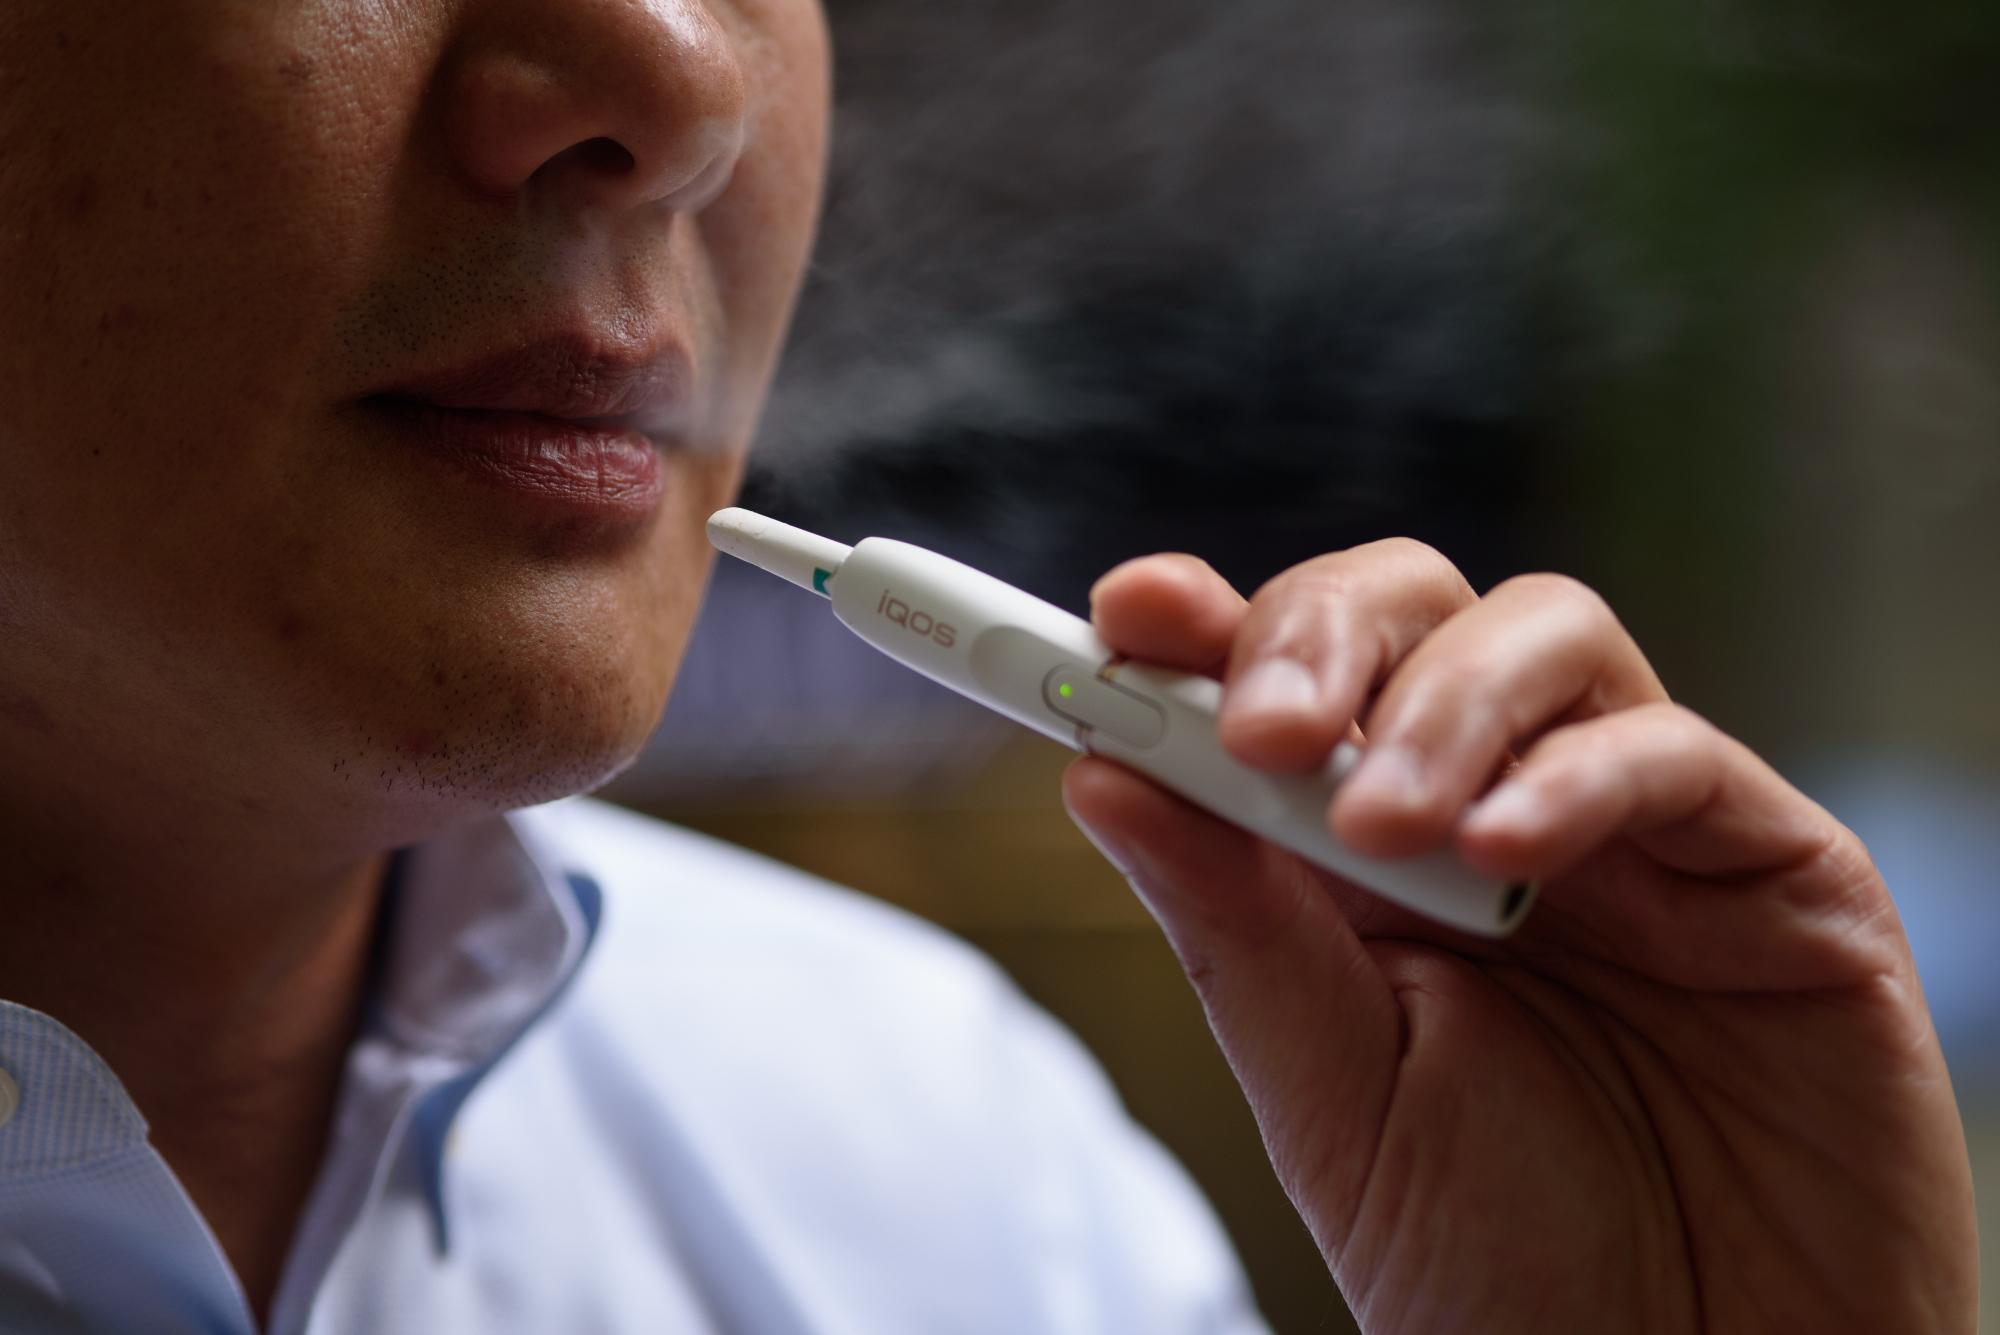iqos: (707, 508, 1532, 936)
